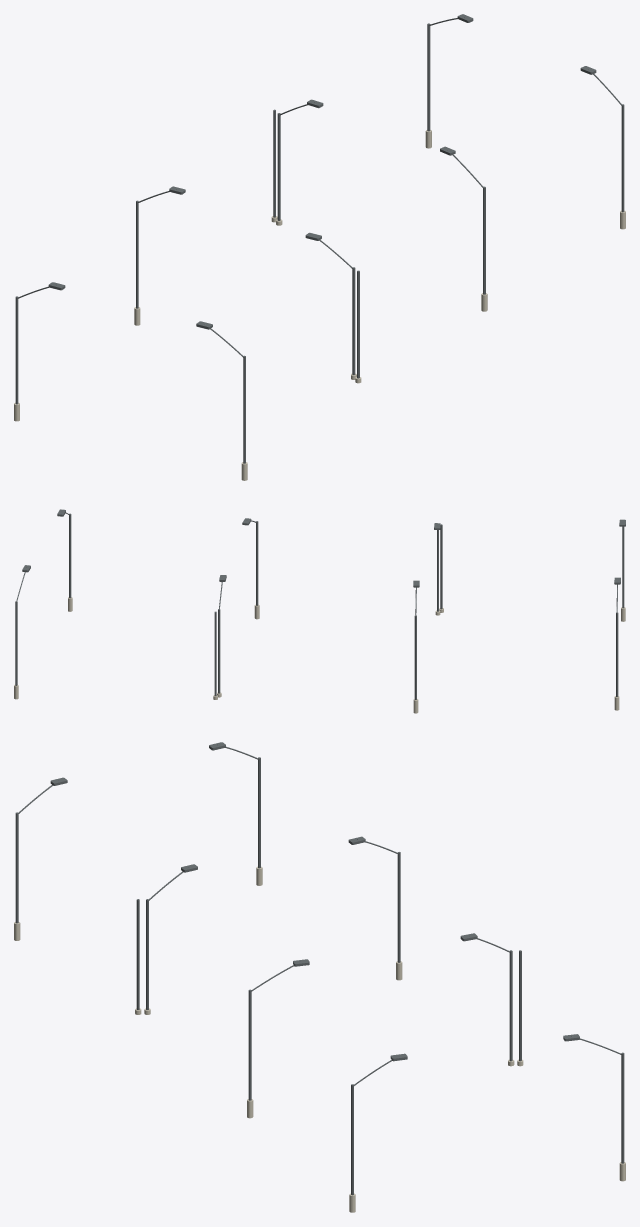
The picture shows the model from 3 angles, top to bottom: view 1: azimuth 30°, elevation 25°; view 2: azimuth 150°, elevation 25°; view 3: azimuth 270°, elevation 25°; orthographic projection. The views are drawn at different scales.
Visible parts, largest first — view 1: buildings_s_-8_-3_Dark_Metal, buildings_s_-8_-3_Warm_Limestone; view 2: buildings_s_-8_-3_Dark_Metal, buildings_s_-8_-3_Warm_Limestone; view 3: buildings_s_-8_-3_Dark_Metal, buildings_s_-8_-3_Warm_Limestone.
Part boxes in pixels (left/top/right/bottom): buildings_s_-8_-3_Dark_Metal: left=15, top=14, right=624, bottom=463; buildings_s_-8_-3_Warm_Limestone: left=14, top=130, right=625, bottom=480; buildings_s_-8_-3_Dark_Metal: left=15, top=509, right=625, bottom=699; buildings_s_-8_-3_Warm_Limestone: left=14, top=597, right=625, bottom=713; buildings_s_-8_-3_Dark_Metal: left=15, top=742, right=624, bottom=1195; buildings_s_-8_-3_Warm_Limestone: left=14, top=866, right=625, bottom=1212.
Bounding box in the file's own units: 83.67 × 17.75 × 65.67.
